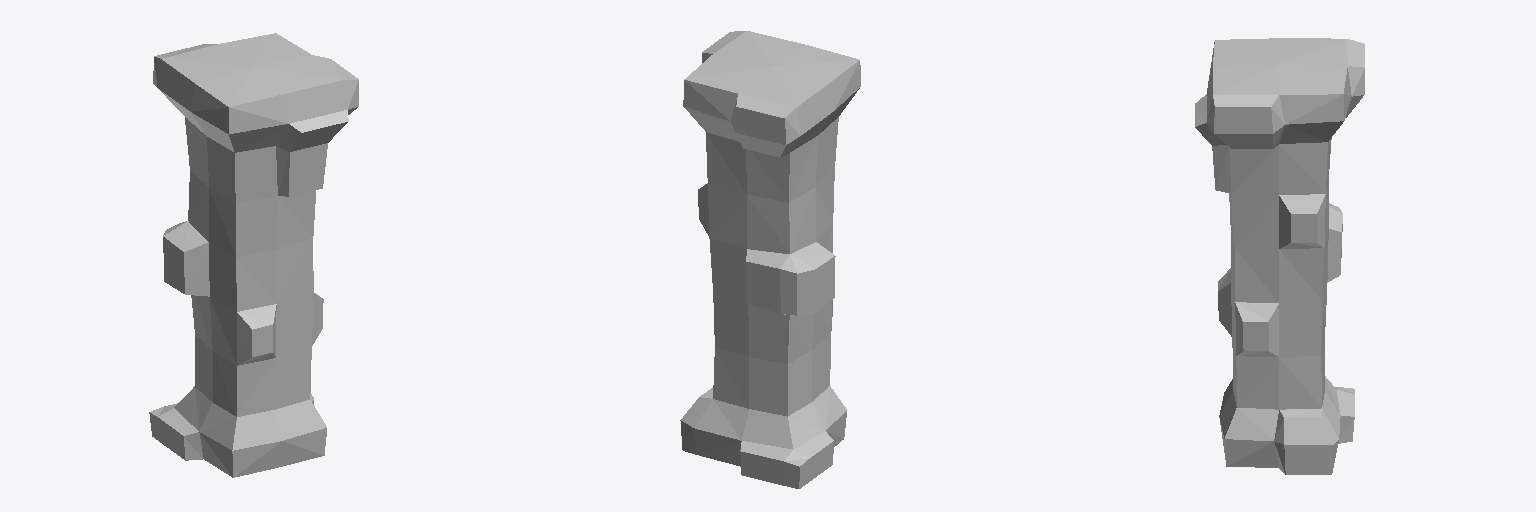
The model's file is Columna Piedra Low Only.obj.
3 renders of one model, left to right at view 1: azimuth 30°, elevation 25°; view 2: azimuth 150°, elevation 25°; view 3: azimuth 270°, elevation 25°, orthographic.
Parts seen in each view (by area): view 1: Columna_Piedra_Low_Only; view 2: Columna_Piedra_Low_Only; view 3: Columna_Piedra_Low_Only.
Boxes of the visible parts, x1=… form: Columna_Piedra_Low_Only: x1=149, y1=33, x2=358, y2=477; Columna_Piedra_Low_Only: x1=680, y1=31, x2=860, y2=488; Columna_Piedra_Low_Only: x1=1195, y1=38, x2=1364, y2=474.
Bounding box in the file's own units: 81.37 × 210 × 85.09.